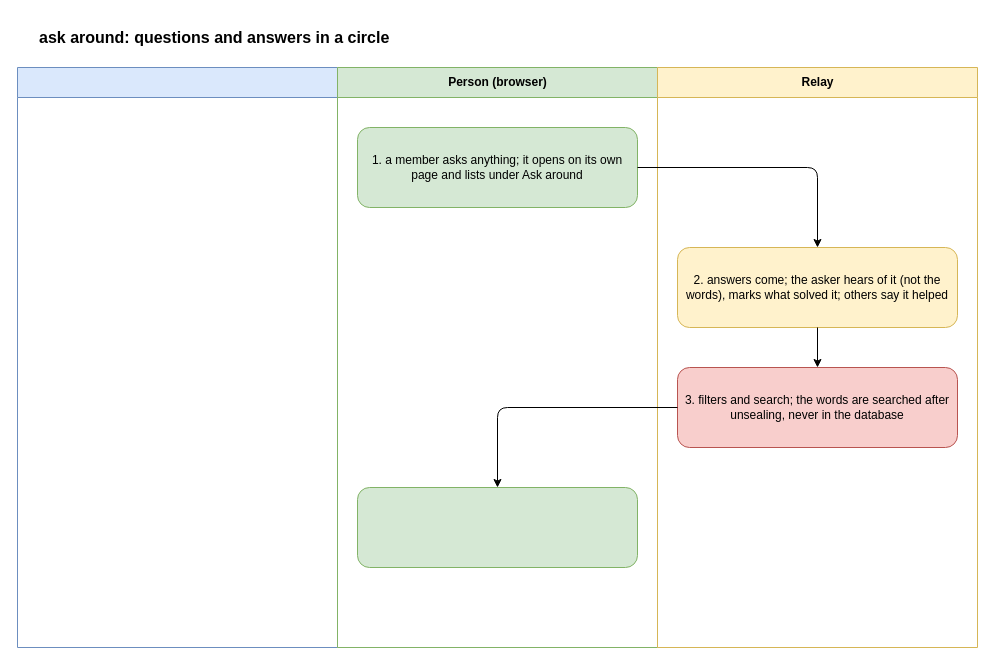
Some shapes in this 995 by 665 pixel diagram are drawn without their labels. Here are the shapes that lost their labels. From the top down, the box of each, then its label:
(16, 66, 338, 648): Agent (MCP client)
(356, 486, 638, 568): 4. askers and hosts delete; nobody outside the circle sees in
